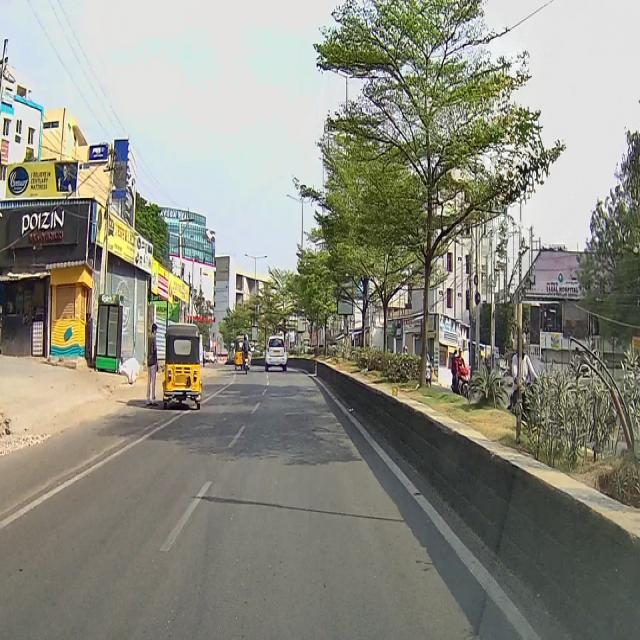auto ahead at: (160, 317, 209, 417)
car ahead at: (262, 328, 292, 374)
person ahead at: (142, 318, 161, 402)
